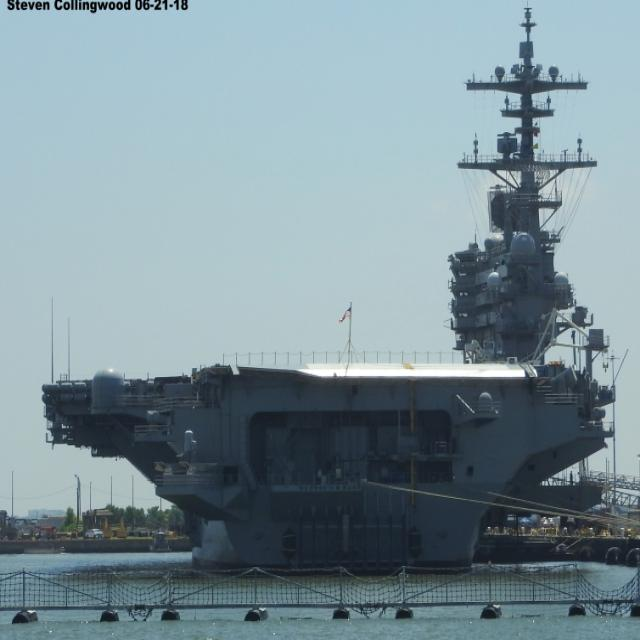Portanaves: (40, 1, 614, 588)
